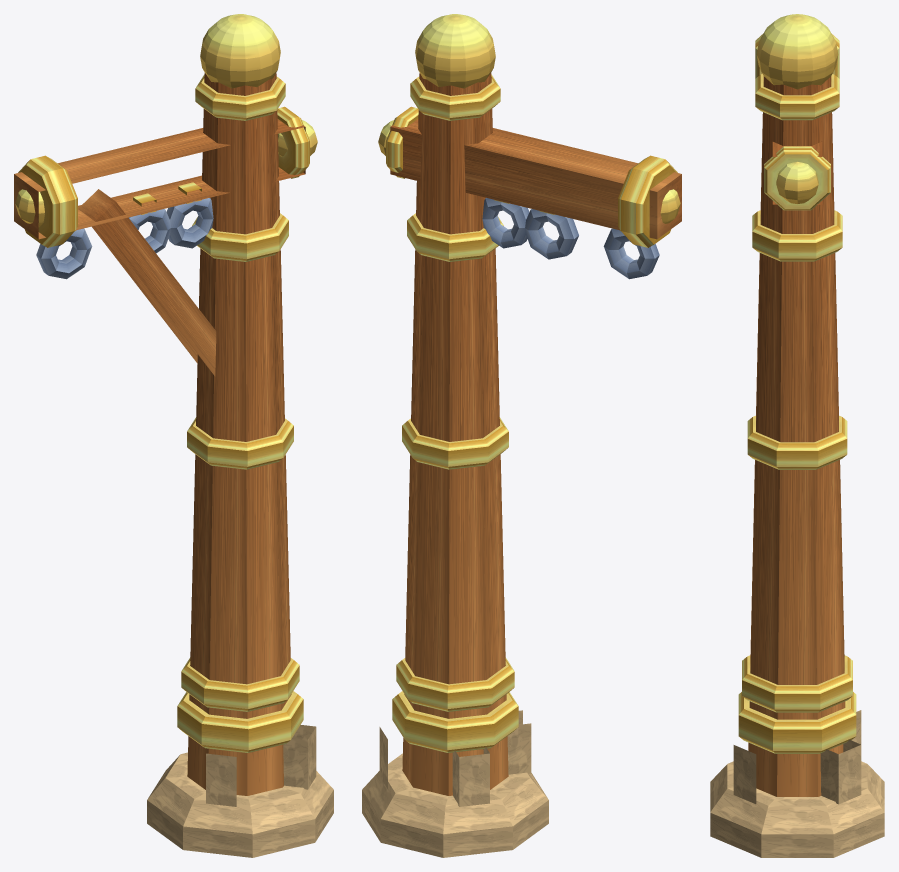
The model's file is banner_pole.glb.
The picture shows the model from 3 angles, left to right: view 1: azimuth 30°, elevation 25°; view 2: azimuth 150°, elevation 25°; view 3: azimuth 270°, elevation 25°; orthographic projection.
Parts seen in each view (by area): view 1: banner_pole; view 2: banner_pole; view 3: banner_pole.
Part boxes in pixels (x1,y1,x2,y2): banner_pole: (14, 14, 333, 857); banner_pole: (362, 14, 681, 857); banner_pole: (710, 14, 884, 857).
Bounding box in the file's own units: 5.91 × 15.2 × 2.99.
Materials: 1 (1 with a texture image).
